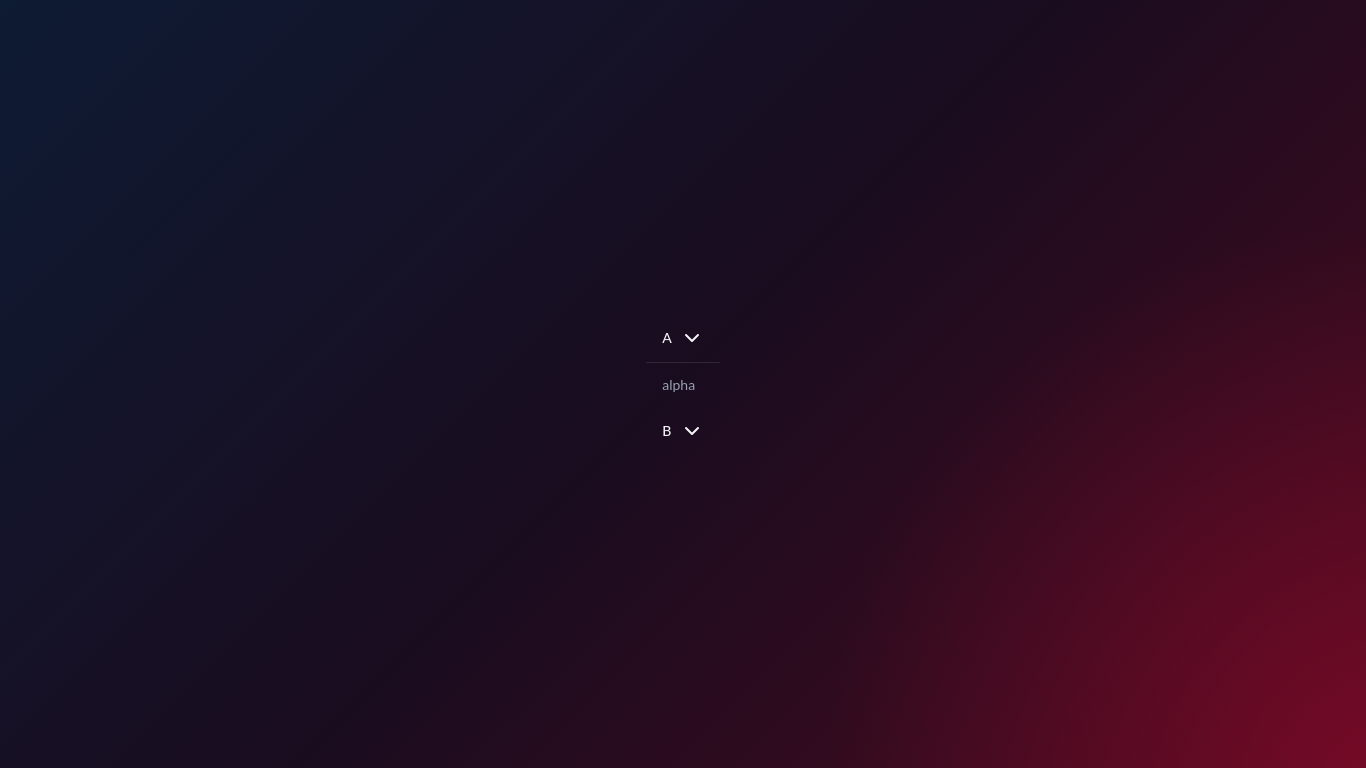
Test case: Accordion (Radix) › single mode closes the other item
This screenshot has width=1366, height=768.
Expected: the text "alpha" is shown, top-left (662, 376), bottom-right (695, 392)
Click the button "B": click(683, 430) top-left (646, 406), bottom-right (720, 454)
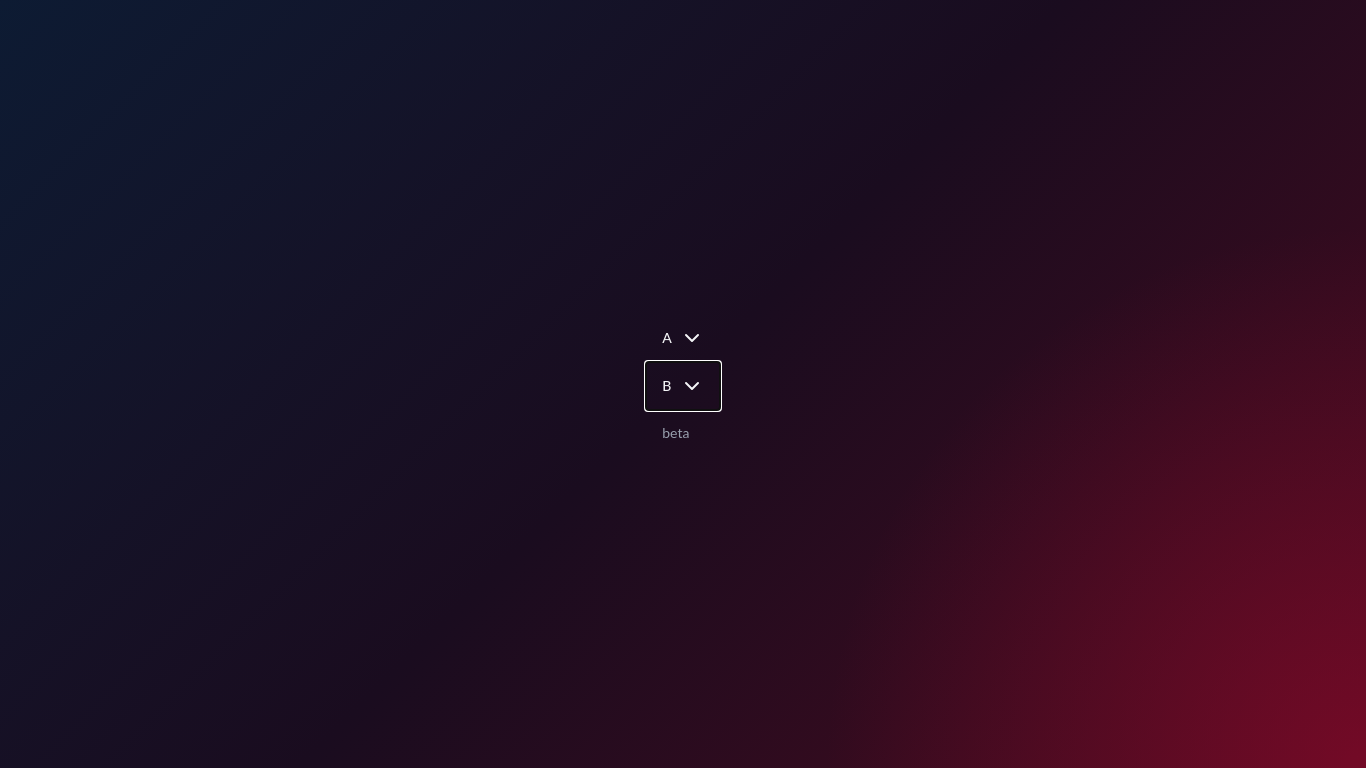
Now the text "alpha" is gone
Now the text "beta" is shown, box top-left (662, 424), bottom-right (689, 440)
